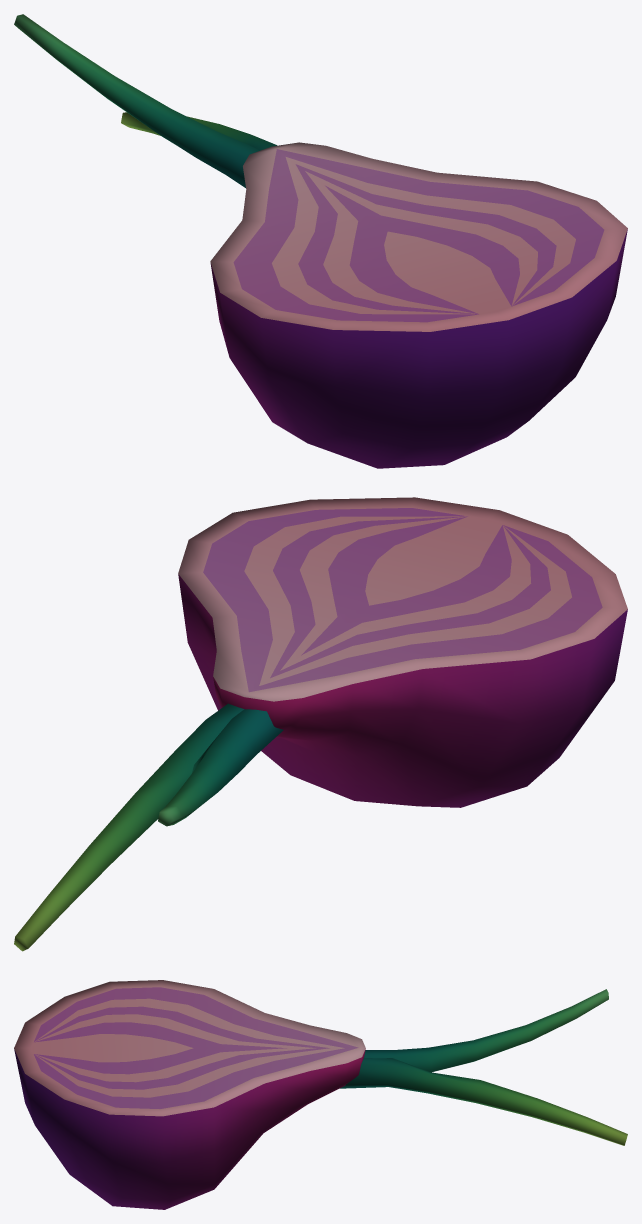
File: Onion_003.glb
3 views of the same model, one above another, from view 1: azimuth 30°, elevation 25°; view 2: azimuth 150°, elevation 25°; view 3: azimuth 270°, elevation 25° (orthographic). The views are drawn at different scales.
Visible parts, largest first — view 1: geometry_0; view 2: geometry_0; view 3: geometry_0.
Boxes of the visible parts, x1,y1,x2,y2 form: geometry_0: [14, 14, 627, 468]; geometry_0: [14, 497, 627, 951]; geometry_0: [14, 980, 627, 1209].
Size of the model in its own units: 0.0781 by 0.0459 by 0.1486.
1 material, 1 textured.
